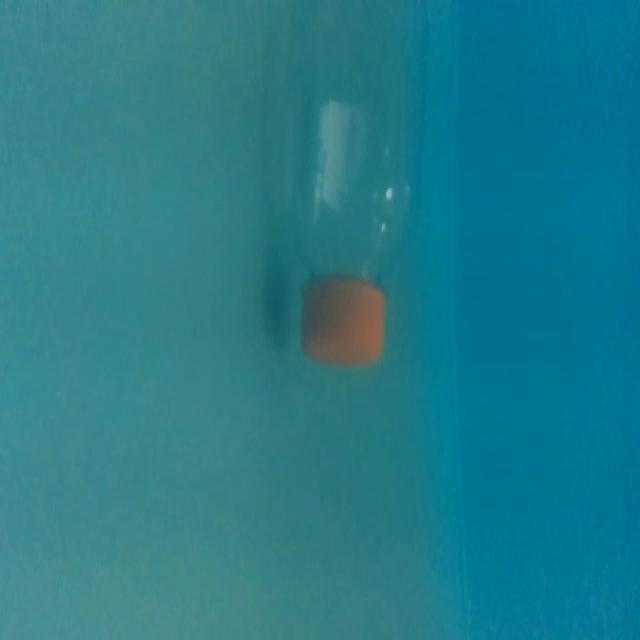plastic bottle: (287, 0, 433, 372)
